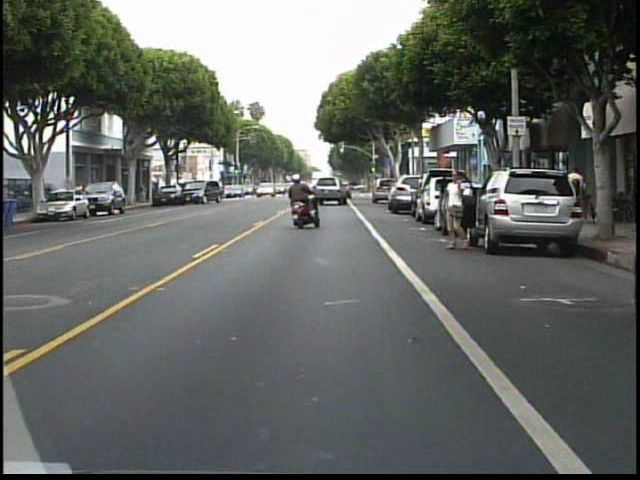person: (443, 167, 472, 255), (281, 169, 322, 228), (563, 165, 583, 228)
